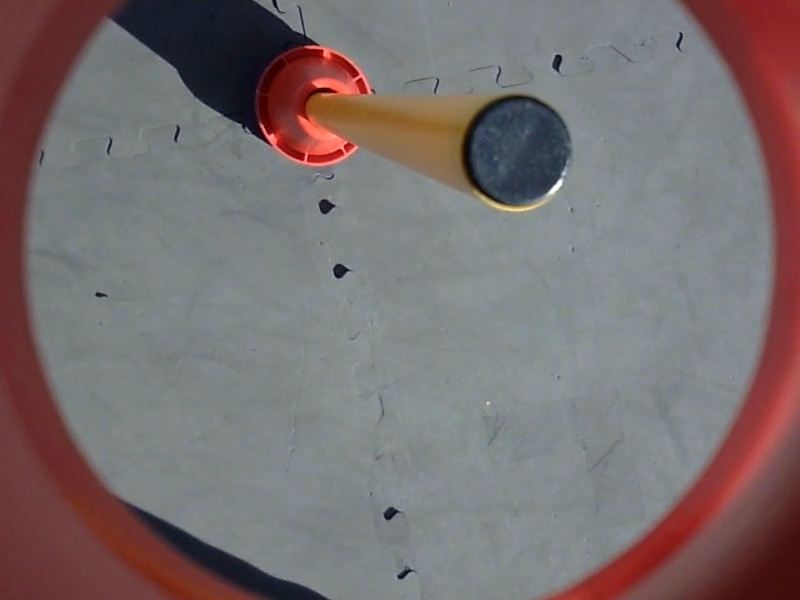tip: (459, 91, 582, 214)
